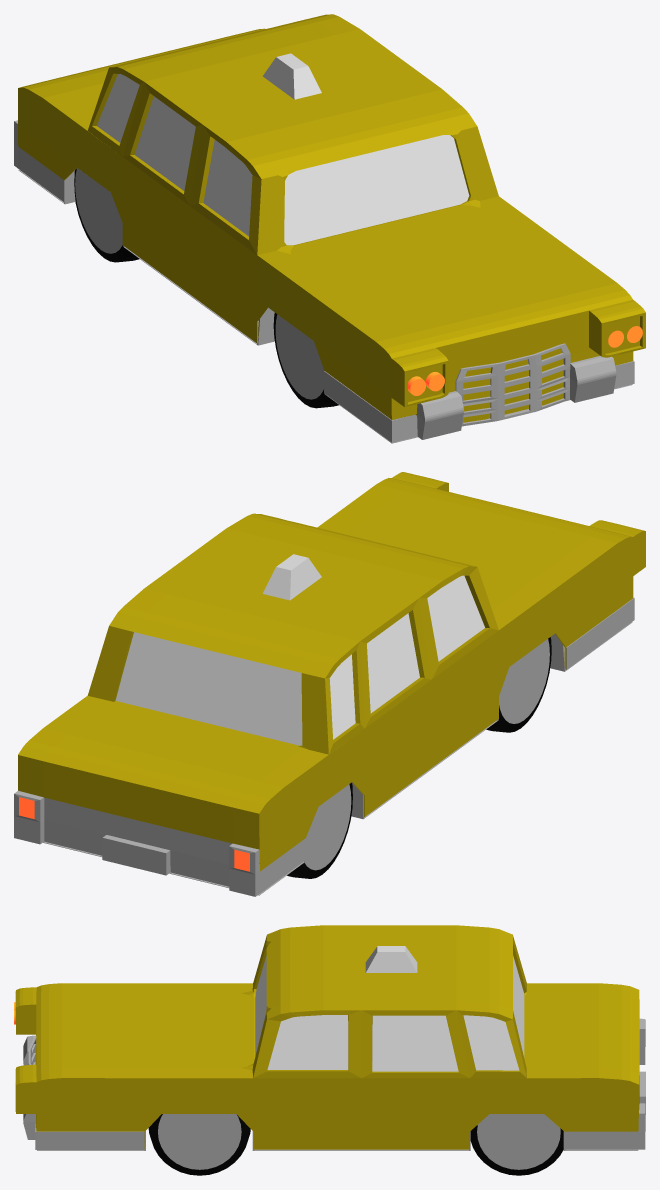
The model's file is Taxi.fbx.
3 views of the same model, one above another, from view 1: azimuth 30°, elevation 25°; view 2: azimuth 150°, elevation 25°; view 3: azimuth 270°, elevation 25° (orthographic). The views are drawn at different scales.
Visible parts, largest first — view 1: frame, glass, Cube.001, Cylinder.005, Cylinder.013, Cube.003, frame.001, Cube.004, Cube.005; view 2: frame, glass, Cube.004, Cylinder.005, Cylinder.013, Cube.003, Cube.001, frame.001, Cylinder.004, Cube.005; view 3: frame, glass, Cylinder.003, Cylinder.011, Cube.001, Cube.004, Cube.003, Cylinder.001, Cylinder.010, frame.001.
Part boxes in pixels (x1,y1,x2,y2): frame: (18, 14, 645, 422); glass: (97, 74, 469, 245); Cube.001: (324, 343, 634, 442); Cylinder.005: (275, 314, 324, 399); Cylinder.013: (75, 168, 122, 253); Cube.003: (262, 53, 321, 99); frame.001: (18, 170, 632, 443); Cube.004: (14, 120, 64, 202); Cube.005: (408, 326, 642, 395); frame: (18, 472, 645, 871); glass: (115, 575, 484, 745); Cube.004: (14, 790, 305, 896); Cylinder.005: (499, 639, 549, 723); Cylinder.013: (304, 784, 351, 870); Cube.003: (262, 554, 321, 600); Cube.001: (566, 597, 634, 669); frame.001: (43, 622, 632, 895); Cylinder.004: (486, 637, 551, 732); Cube.005: (19, 797, 249, 871); frame: (15, 925, 639, 1149); glass: (255, 955, 524, 1071); Cylinder.003: (158, 1114, 241, 1169); Cylinder.011: (477, 1114, 560, 1169); Cube.001: (23, 1035, 144, 1149); Cube.004: (564, 1018, 645, 1149); Cube.003: (365, 946, 417, 972); Cylinder.001: (148, 1114, 250, 1175); Cylinder.010: (470, 1125, 563, 1175); frame.001: (37, 1131, 638, 1150).
Bounding box in the file's own units: 1315 × 1190 × 3677.
